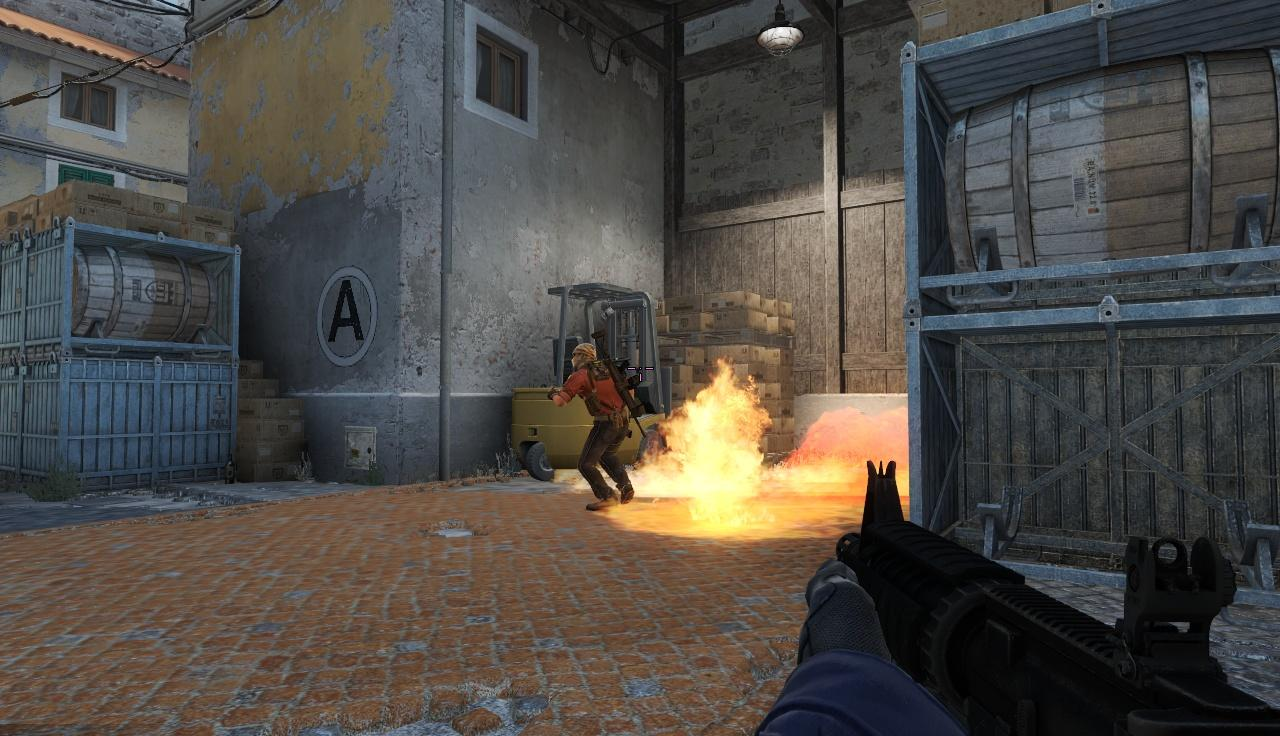rifle: (827, 464, 1280, 736)
tt: (568, 343, 636, 508)
tthead: (571, 345, 594, 370)
